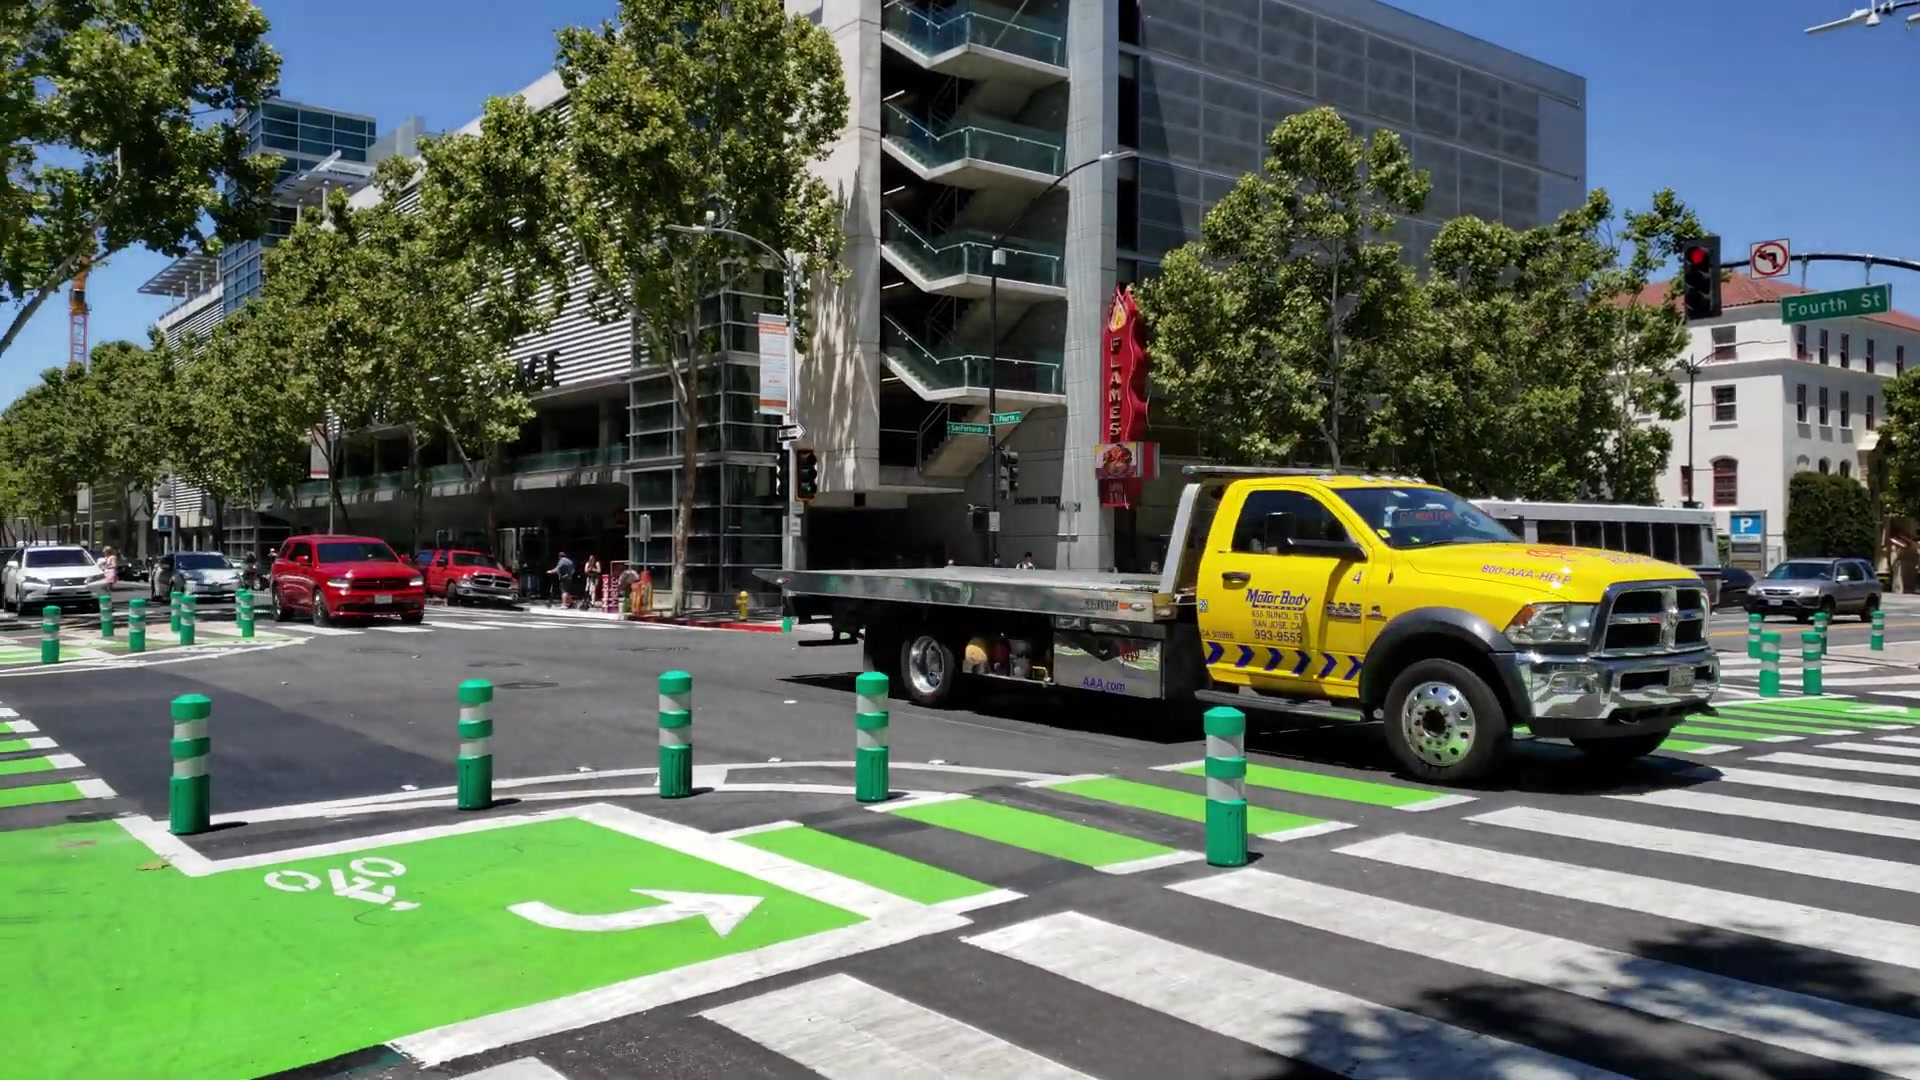vehicle: (753, 465, 1718, 785), (268, 534, 426, 630), (1745, 555, 1886, 617), (3, 546, 113, 611), (422, 550, 520, 604), (149, 553, 241, 604)
